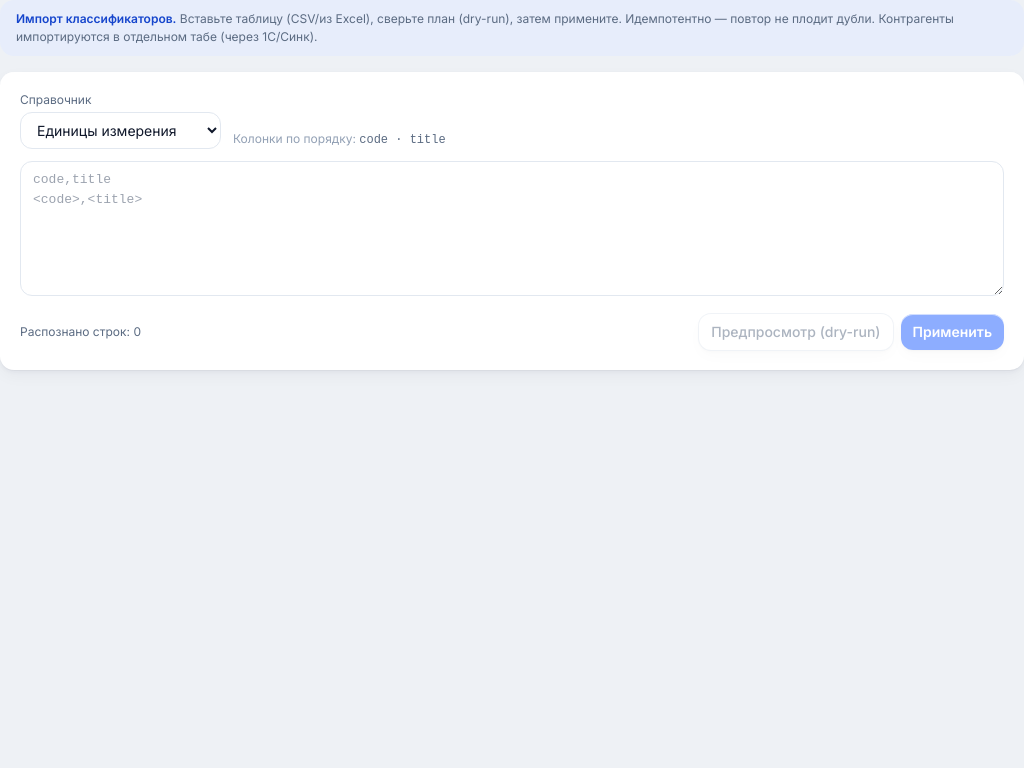
SpravImportRefs › конфликтные строки показаны явно ПЕРЕД записью, с причиной
The image size is (1024, 768).
Type "USD,Доллар" into the text box with placeholder "code,title <code>,<title>" at [512, 228], box [20, 161, 1004, 296]
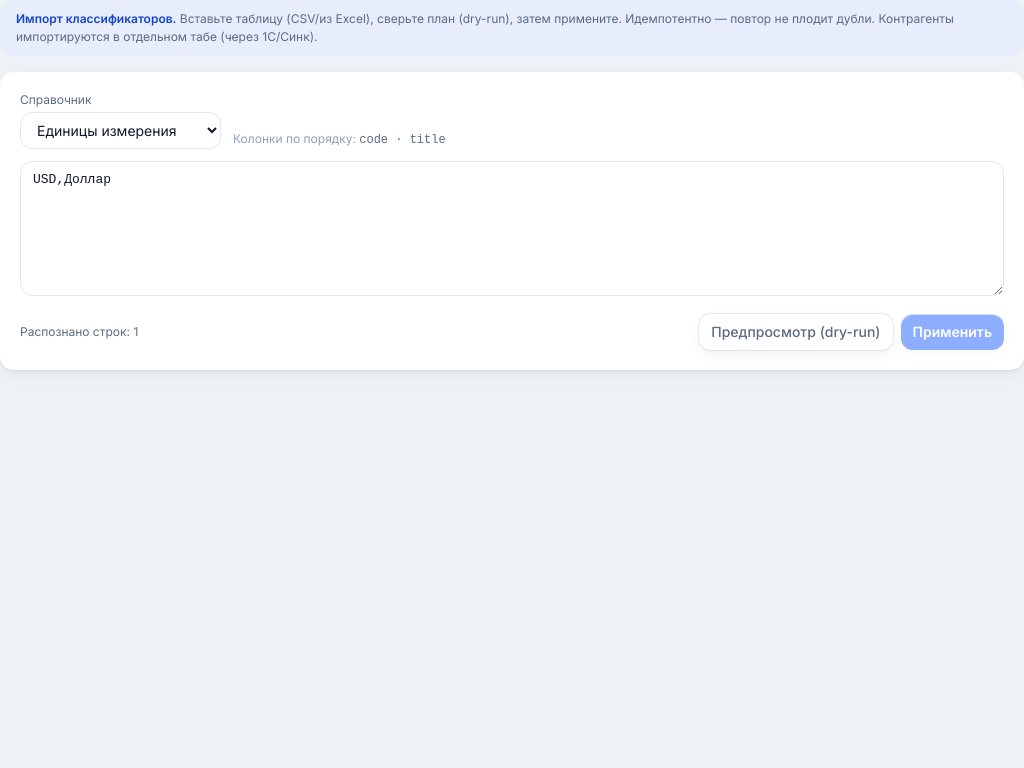
Click the button "Предпросмотр (dry-run)" at [796, 332], box [699, 314, 892, 350]
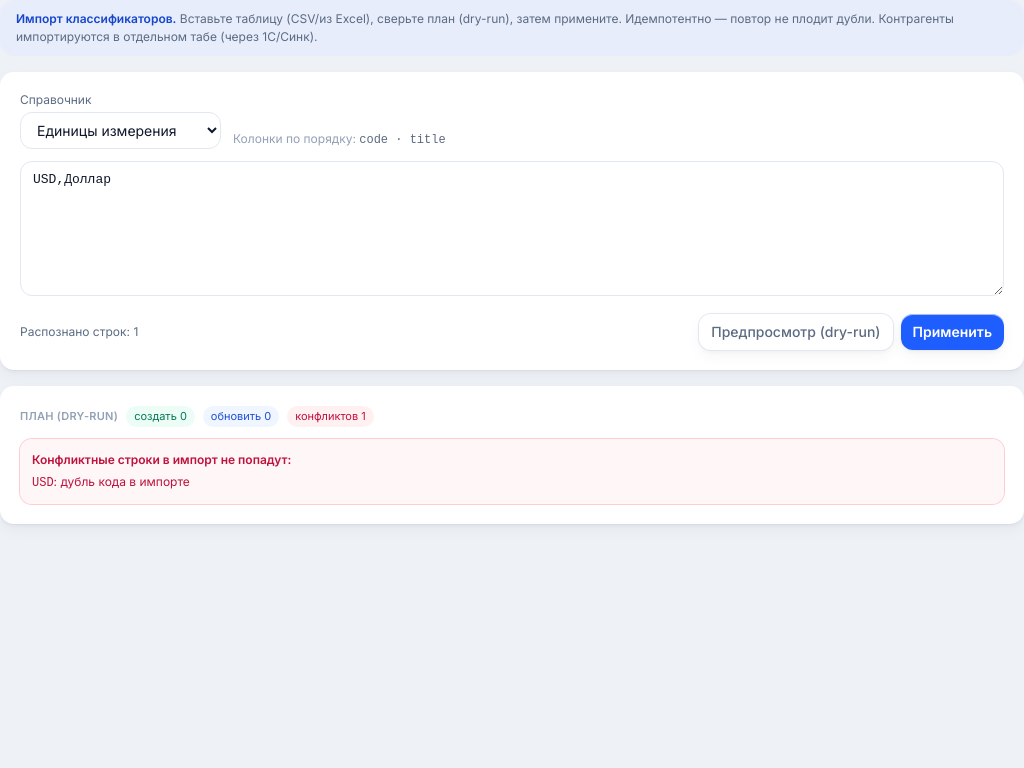
Expected: the text "конфликтов 1" is shown, [287, 406, 374, 426]
Expected: the text "Конфликтные строки в импорт не попадут:" is shown, [32, 452, 291, 466]
Expected: the list item "USD: дубль кода в импорте" is shown, [32, 474, 190, 490]
